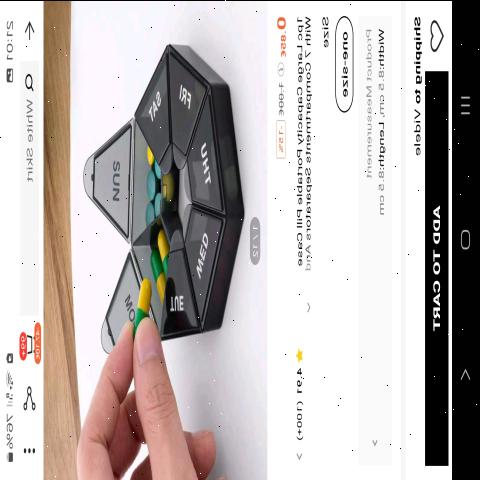PillBox: (84, 38, 241, 362)
